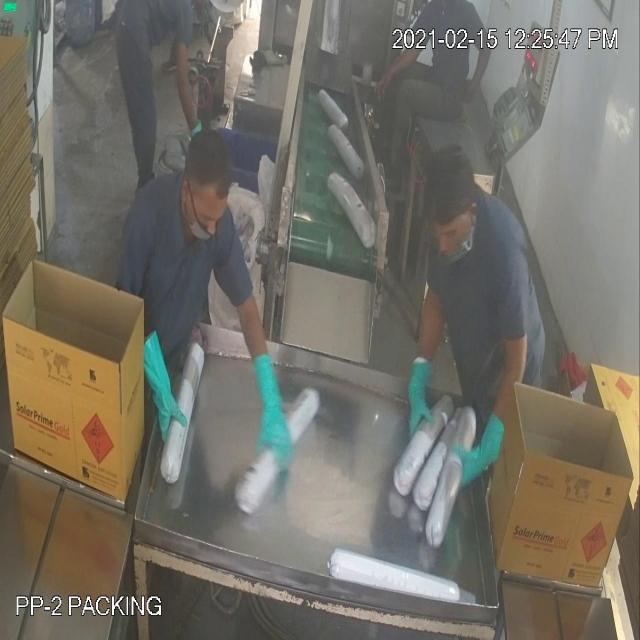gloves: (244, 315, 296, 487), (138, 310, 190, 459), (449, 398, 513, 494), (404, 349, 446, 450)
no-gloves: (169, 36, 209, 129), (371, 36, 425, 104), (469, 35, 497, 101)
